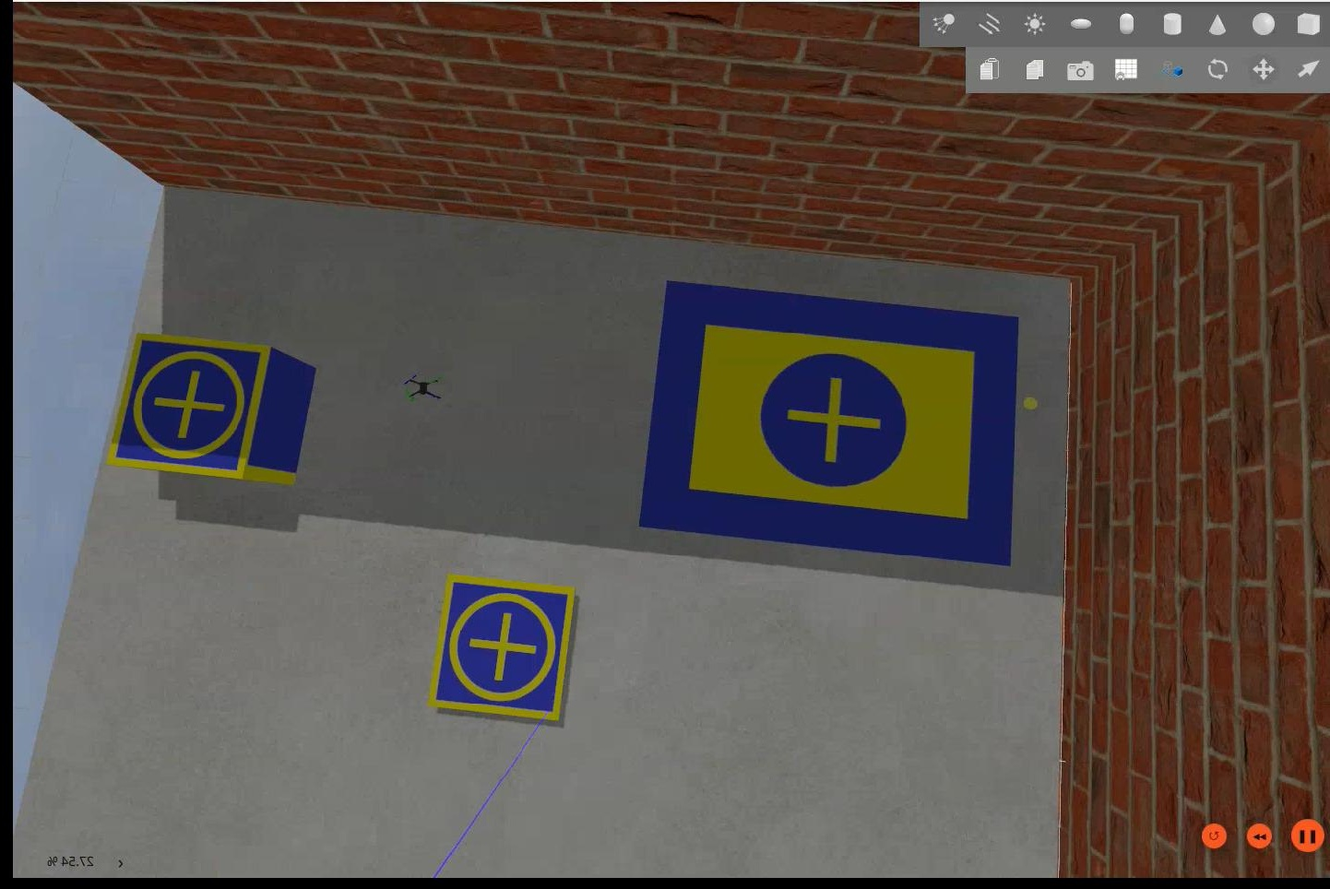large_base: (634, 280, 1026, 571)
small_base: (101, 334, 276, 486), (428, 575, 576, 727)
